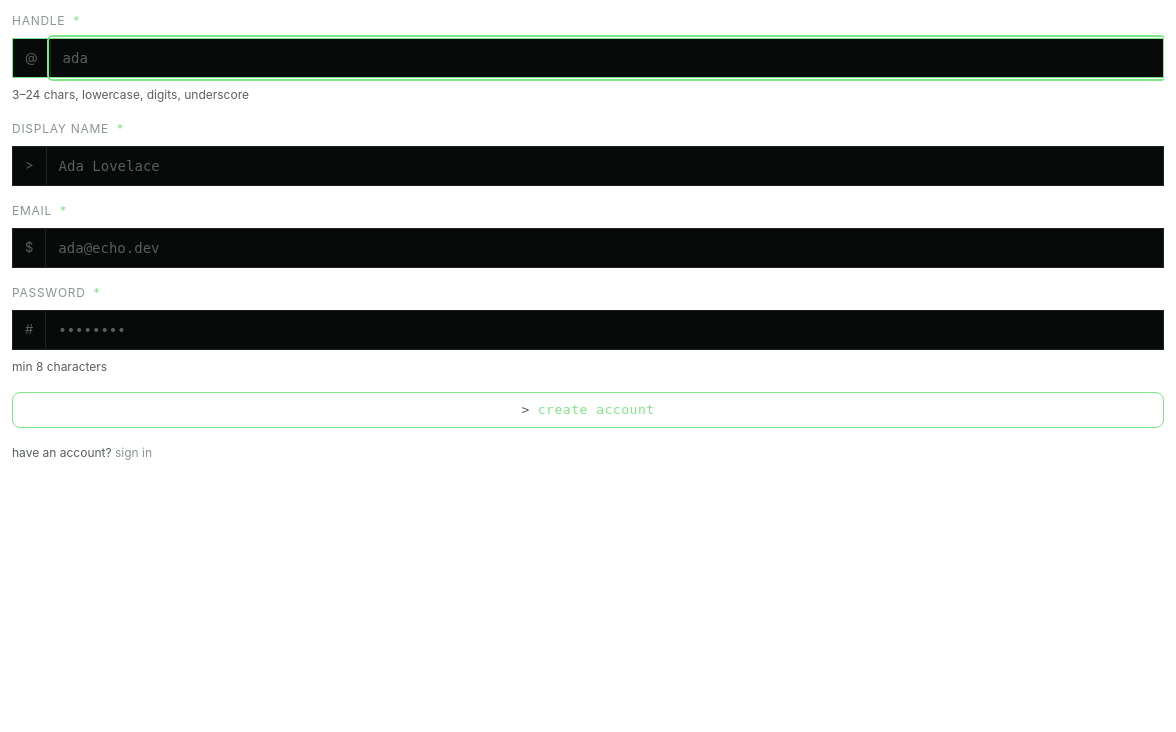
RegisterForm › validates handle (lowercase, 3-24, [a-z0-9_])
The image size is (1176, 732).
Type "AB" into the field labelled "handle *".
click(607, 58); type("AB")  # box top-left (51, 39), bottom-right (1163, 77)
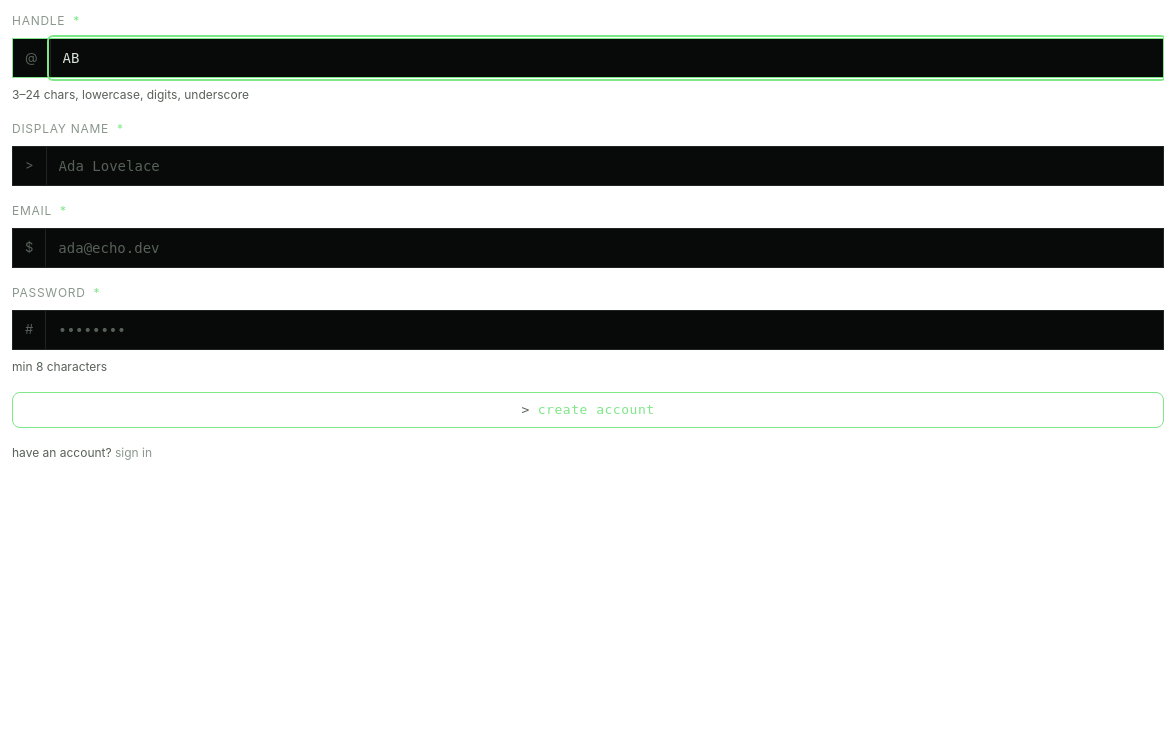
Click the button "> create account".
click(588, 410)  # box top-left (12, 392), bottom-right (1164, 428)
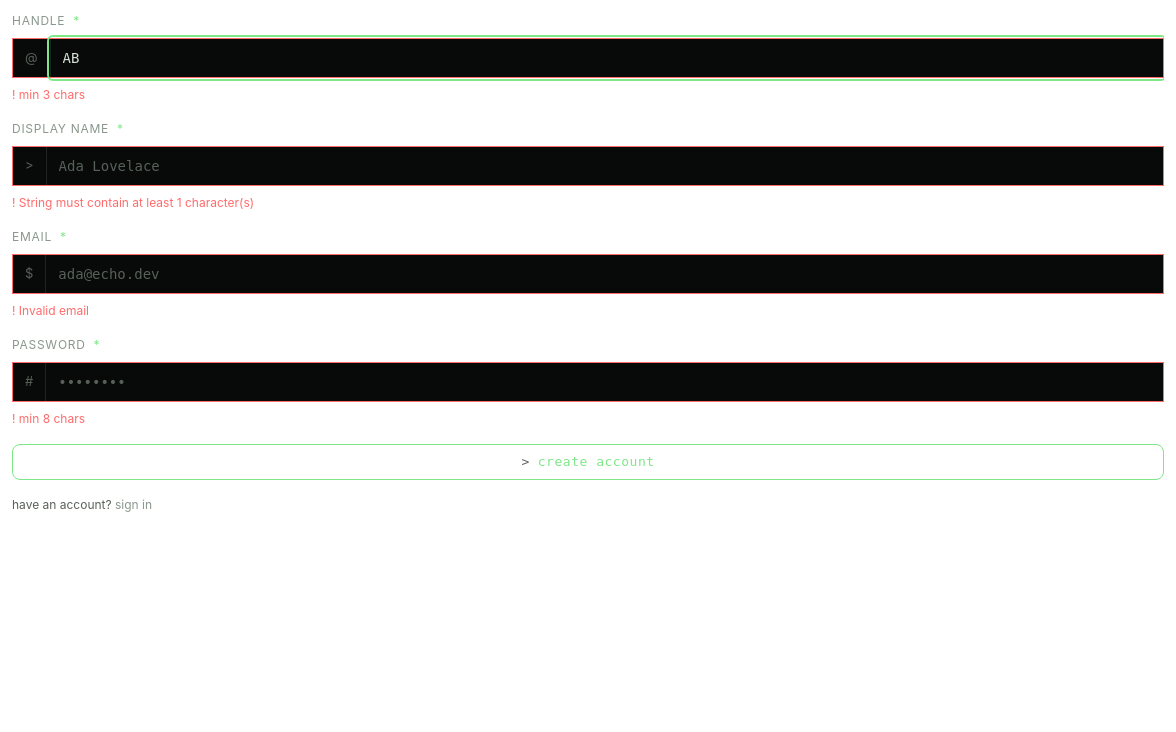
expect the text "min 3 chars" is shown: met, box top-left (19, 87), bottom-right (85, 102)
